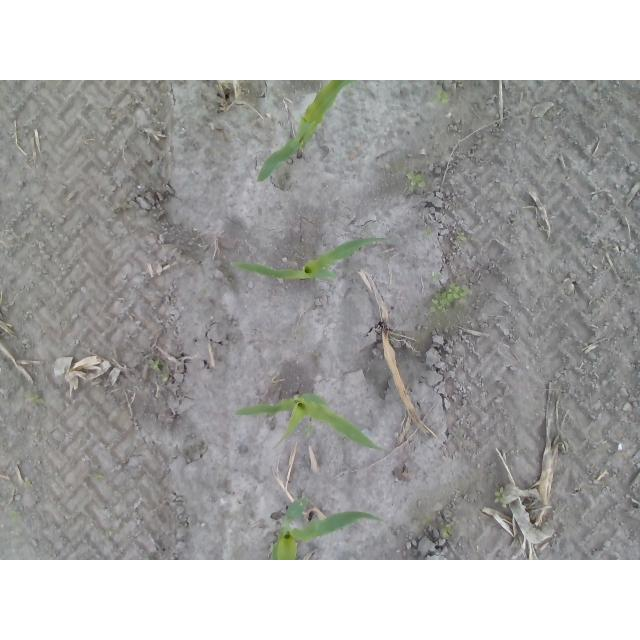Maize: (258, 80, 359, 186), (236, 392, 388, 455), (230, 236, 391, 283), (270, 497, 387, 560)
Weeds: (429, 283, 472, 314), (147, 358, 169, 382), (406, 171, 427, 193), (433, 88, 451, 104), (494, 488, 507, 504), (24, 393, 44, 403), (439, 523, 453, 537), (112, 204, 132, 213), (304, 422, 314, 438), (9, 510, 21, 523), (428, 272, 443, 281), (90, 473, 105, 482), (457, 232, 468, 241), (425, 230, 433, 239), (295, 330, 301, 339), (24, 481, 33, 487), (389, 337, 395, 343), (108, 529, 113, 535), (6, 327, 12, 332), (142, 557, 150, 560)
